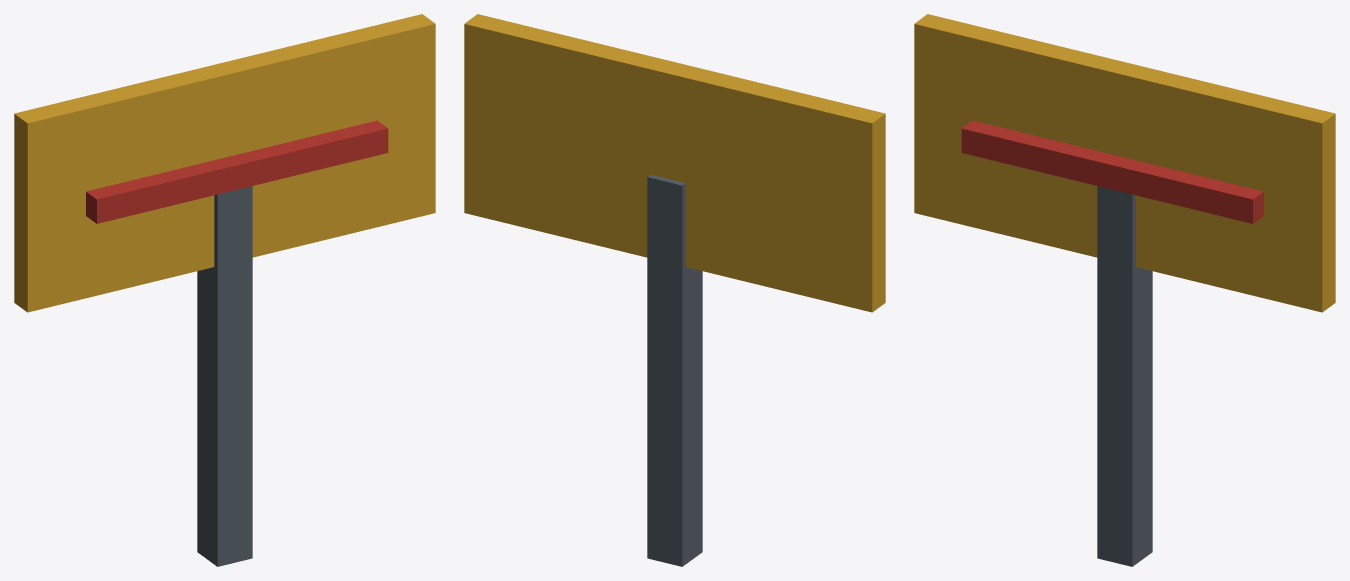
Rendered from prop.warning_sign.glb.
The picture shows the model from 3 angles, left to right: view 1: azimuth 30°, elevation 25°; view 2: azimuth 150°, elevation 25°; view 3: azimuth 330°, elevation 25°; orthographic projection.
Visible parts, largest first — view 1: sign_face, sign_post, sign_red_bar; view 2: sign_face, sign_post; view 3: sign_face, sign_post, sign_red_bar.
Part boxes in pixels (x1=…): sign_face: x1=14, y1=14, x2=435, y2=312; sign_post: x1=197, y1=186, x2=252, y2=566; sign_red_bar: x1=86, y1=120, x2=388, y2=223; sign_face: x1=464, y1=14, x2=885, y2=312; sign_post: x1=647, y1=174, x2=702, y2=566; sign_face: x1=914, y1=14, x2=1335, y2=312; sign_post: x1=1097, y1=186, x2=1152, y2=566; sign_red_bar: x1=961, y1=120, x2=1263, y2=223.
Size of the model in its own units: 1.4 by 1.6 by 0.165.
